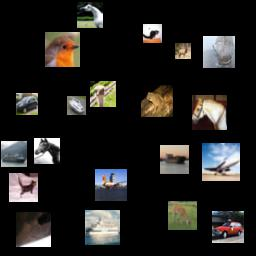airplane: (202, 143, 240, 181), (95, 169, 127, 201)
automobile: (212, 211, 244, 243), (16, 93, 38, 115)
bird: (45, 32, 80, 67), (90, 81, 116, 107)
cat: (16, 212, 51, 247), (9, 173, 38, 202), (143, 24, 162, 43)
deer: (168, 201, 197, 230), (175, 43, 191, 59)
frog: (141, 85, 173, 117)
ship: (85, 210, 120, 245), (203, 36, 235, 68), (160, 145, 189, 174), (1, 141, 27, 167), (67, 96, 86, 115)
